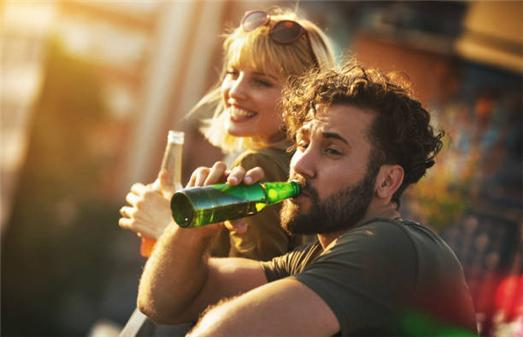alcohol: (167, 178, 307, 229), (143, 128, 184, 253)
